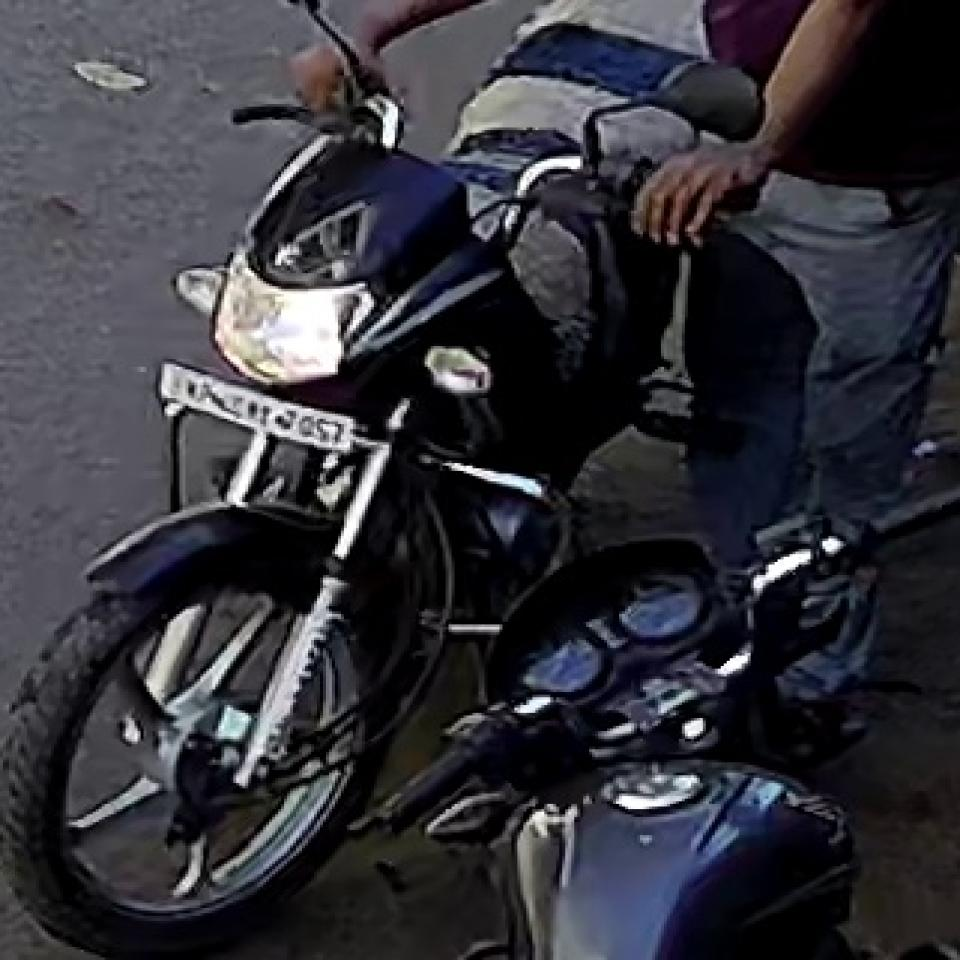head_light: (209, 241, 373, 386)
